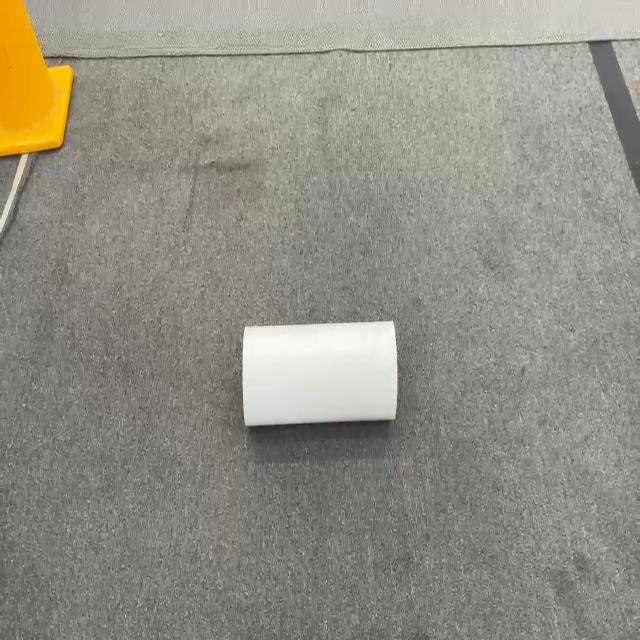coral: (241, 318, 398, 428)
